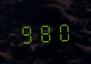eight: (37, 20, 54, 43)
nine: (18, 21, 35, 44)
zero: (55, 19, 72, 42)
